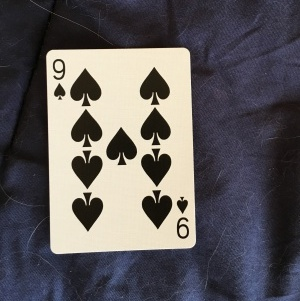card: (45, 48, 197, 253)
